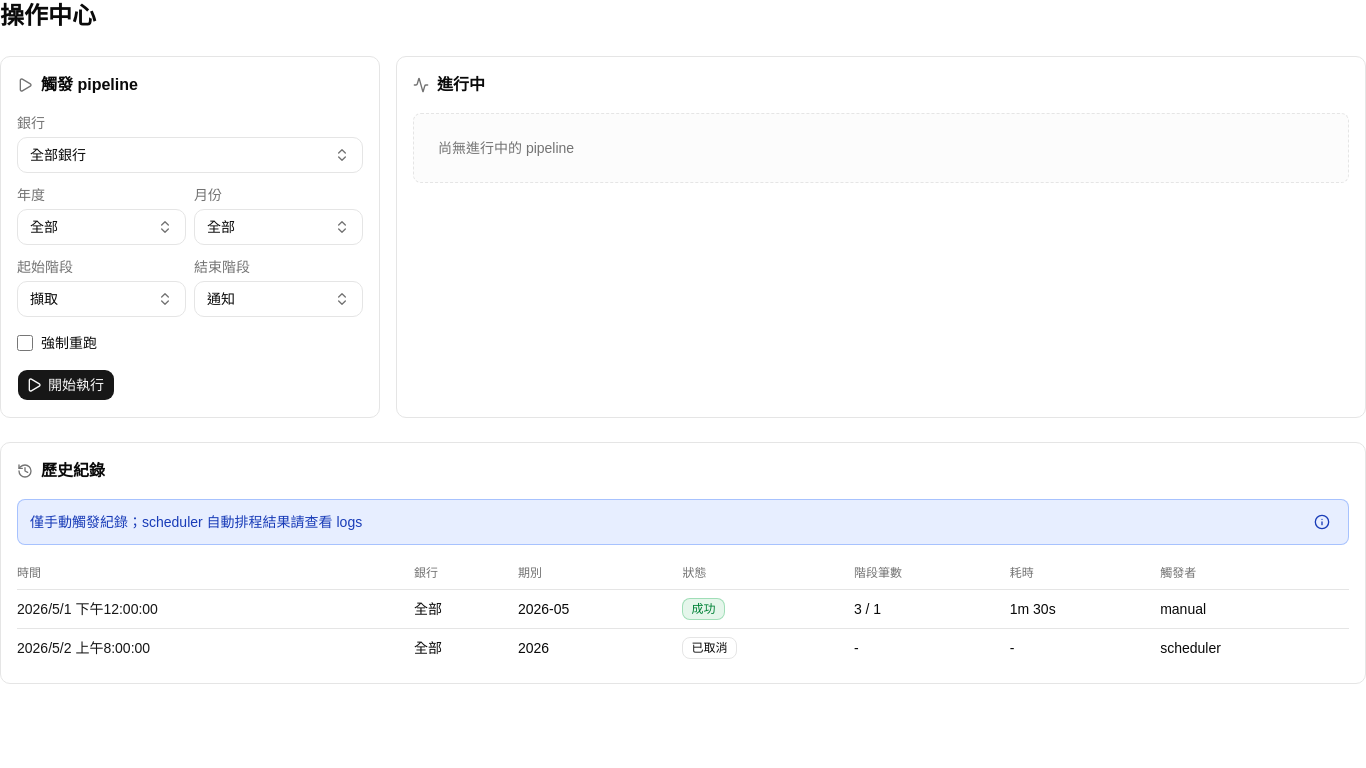
it: OperationsPage coverage › renders history status badges and opens a succeeded run detail dialog
This screenshot has width=1366, height=768.
Expected: the text "成功" is shown, [692,602,716,616]
Expected: the text "已取消" is shown, [692,641,728,655]
Click the 3rd button. click: (87, 609)
box: [17,599,158,619]
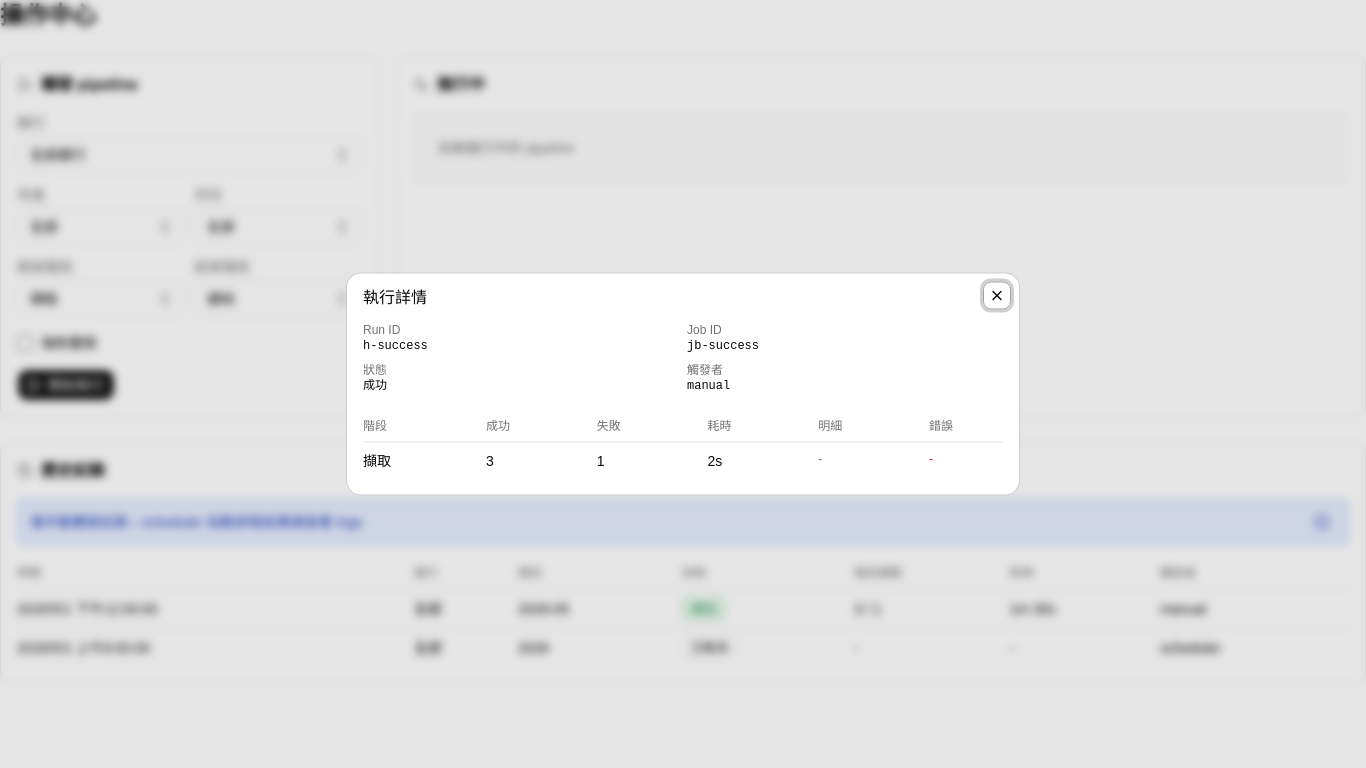
Now the text "Run ID" is shown, box [363,322,400,336]
Now the text "h-success" is shown, box [363,338,428,352]
